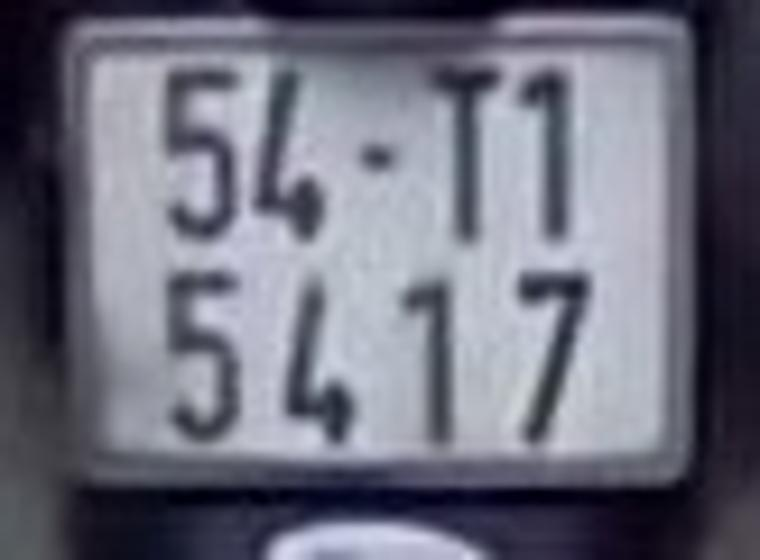-: (353, 144, 401, 178)
1: (391, 268, 473, 451), (515, 60, 589, 249)
4: (277, 271, 367, 456), (250, 59, 332, 247)
5: (160, 268, 251, 450), (157, 59, 245, 243)
7: (511, 260, 597, 454)
T: (422, 61, 506, 250)
